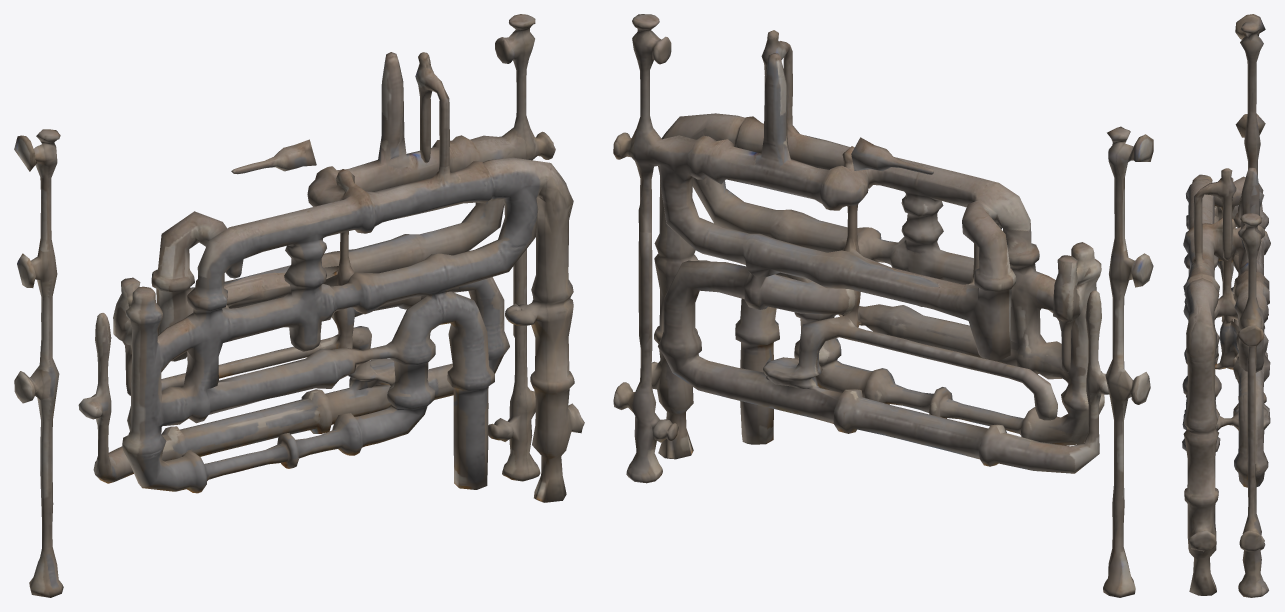
File: Creepy_old_shining_pi_0124161657_stylize.fbx
3 renders of one model, left to right at view 1: azimuth 30°, elevation 25°; view 2: azimuth 150°, elevation 25°; view 3: azimuth 270°, elevation 25°, orthographic. The views are drawn at different scales.
Parts seen in each view (by area): view 1: Mesh_0.019; view 2: Mesh_0.019; view 3: Mesh_0.019.
Boxes of the visible parts, box(x1,y1,x2,y2) form: Mesh_0.019: box(14, 14, 584, 597); Mesh_0.019: box(613, 14, 1153, 597); Mesh_0.019: box(1182, 14, 1270, 597).
Size of the model in its own units: 1193 by 1000 by 212.
1 material, 1 textured.
